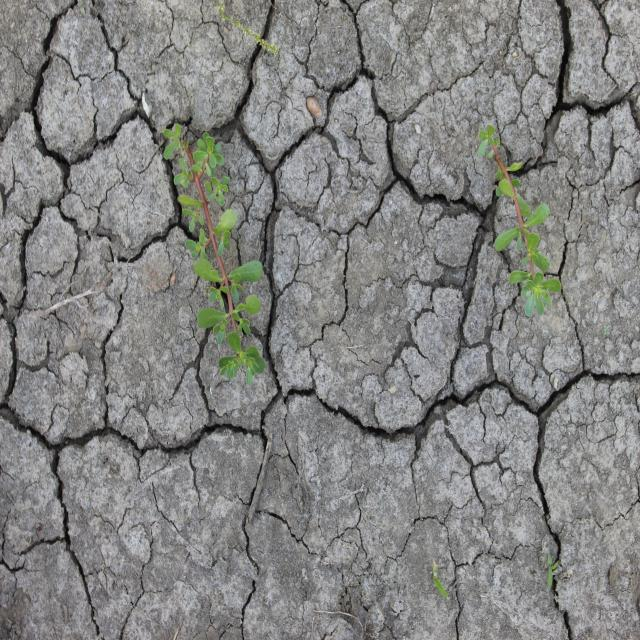Purslane: (162, 122, 266, 386), (476, 124, 562, 318)
